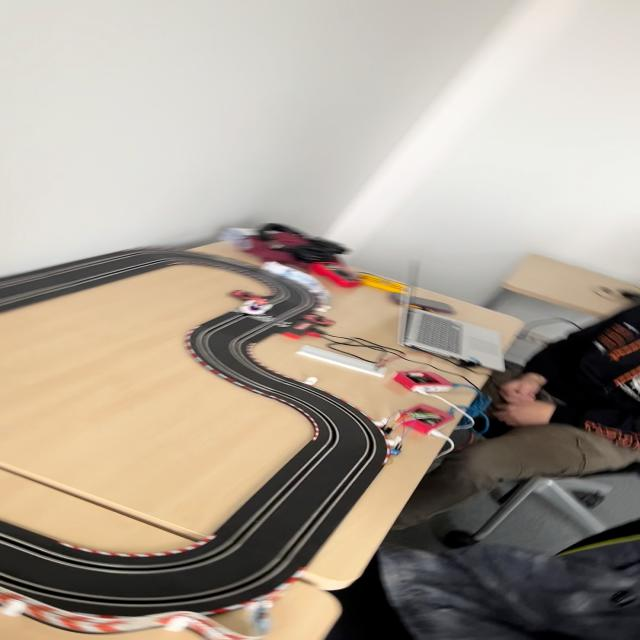mario: (235, 296, 277, 318)
